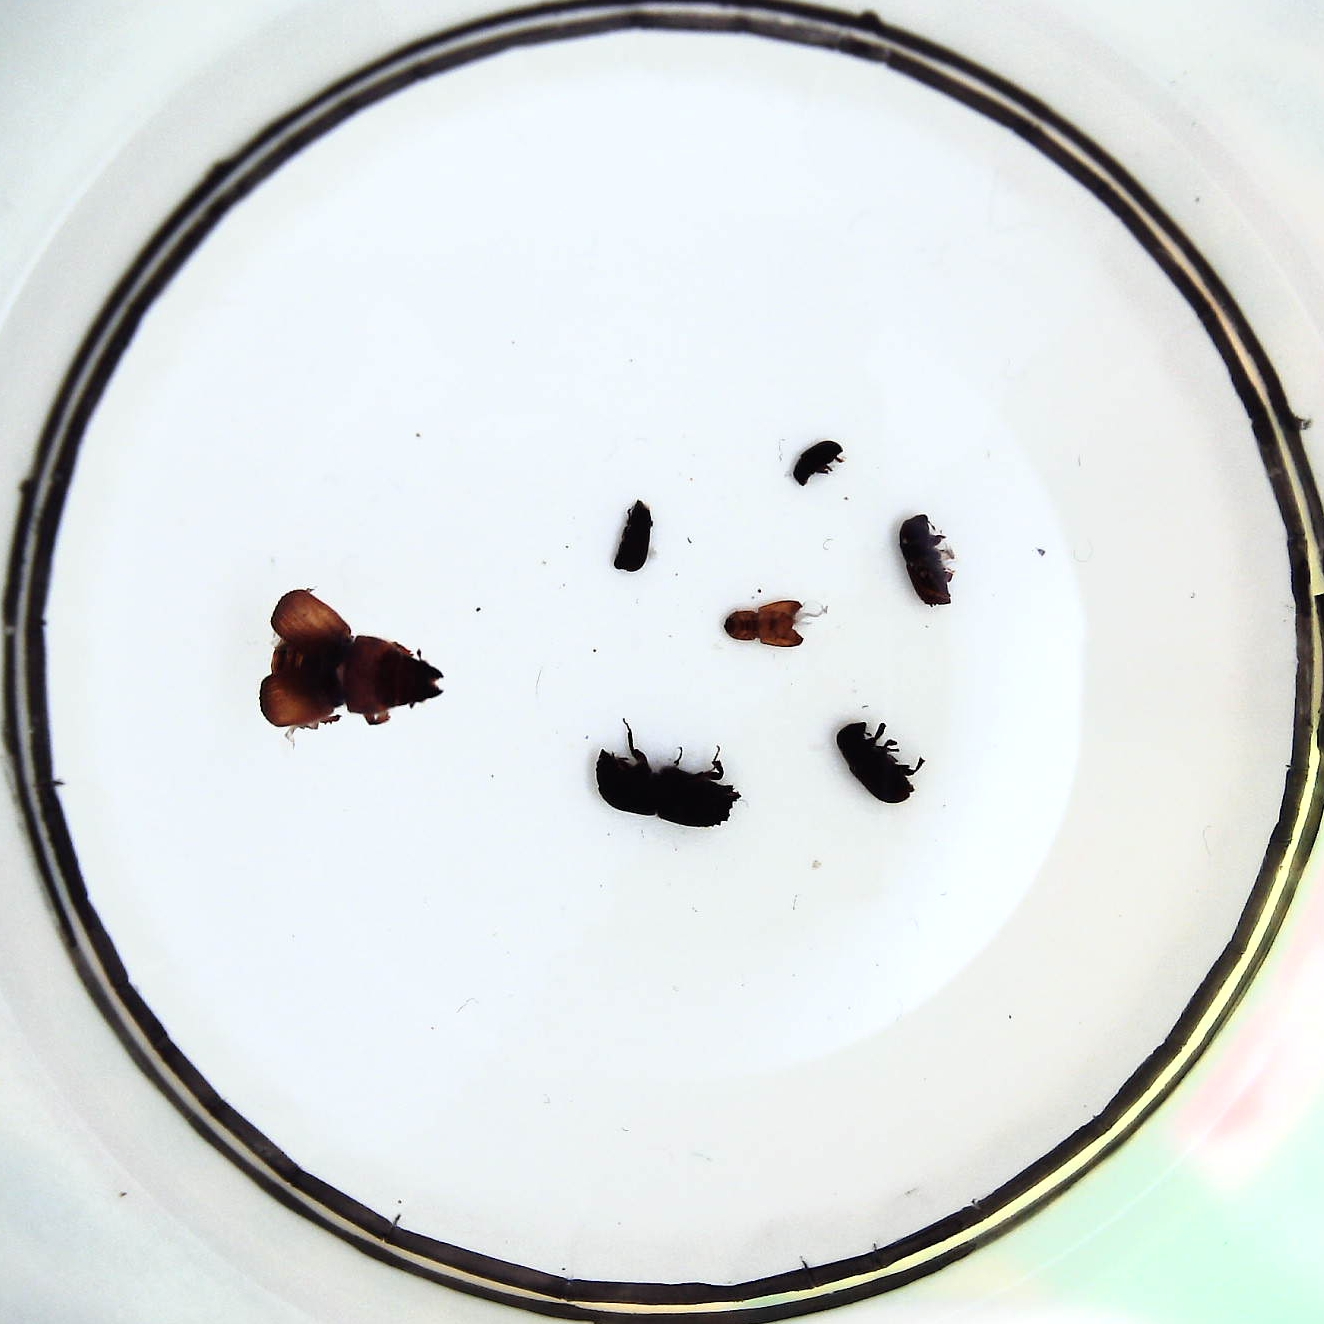Boerner: (590, 748, 738, 827)
Leconte: (253, 588, 444, 730)
Linnaeus: (898, 514, 957, 606)
acuminatus: (723, 599, 809, 651)
armandi: (838, 721, 915, 803)
coleoptera: (617, 500, 651, 570), (793, 441, 841, 484)
